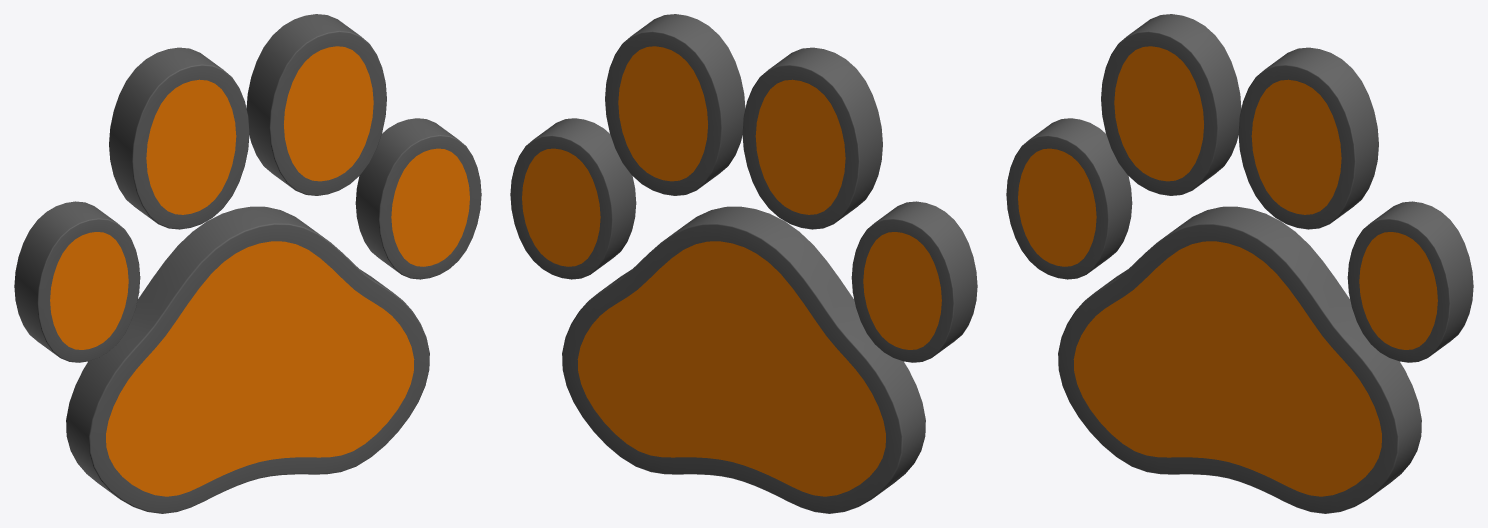
Rendered from Store_11_Paw_2.glb.
3 renders of one model, left to right at view 1: azimuth 30°, elevation 25°; view 2: azimuth 150°, elevation 25°; view 3: azimuth 330°, elevation 25°, orthographic.
Visible parts, largest first — view 1: Store_11_Paw_2; view 2: Store_11_Paw_2; view 3: Store_11_Paw_2.
Boxes of the visible parts, <box> form: Store_11_Paw_2: <box>14,14,481,513</box>; Store_11_Paw_2: <box>510,14,977,513</box>; Store_11_Paw_2: <box>1006,14,1473,513</box>.
Size of the model in its own units: 1.18 by 1.12 by 0.1108.
Materials: 1 (1 with a texture image).
